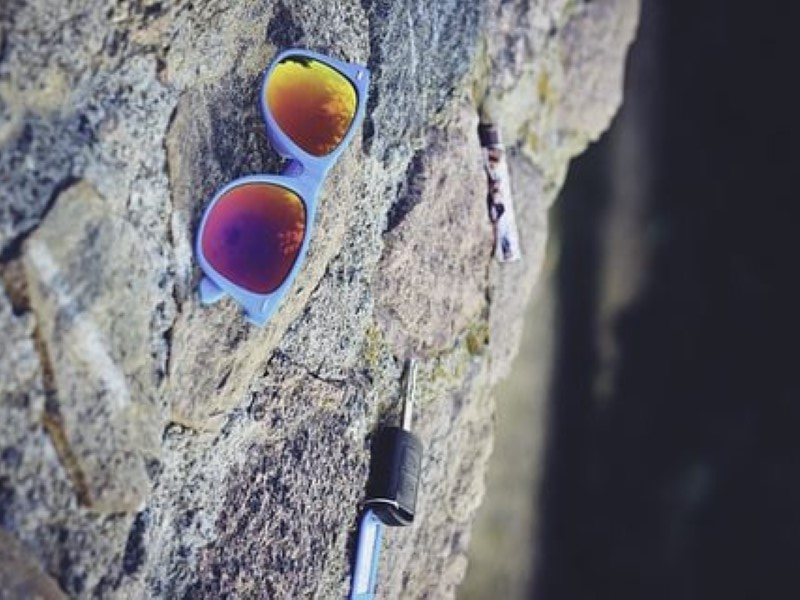carkey: (362, 355, 426, 530)
